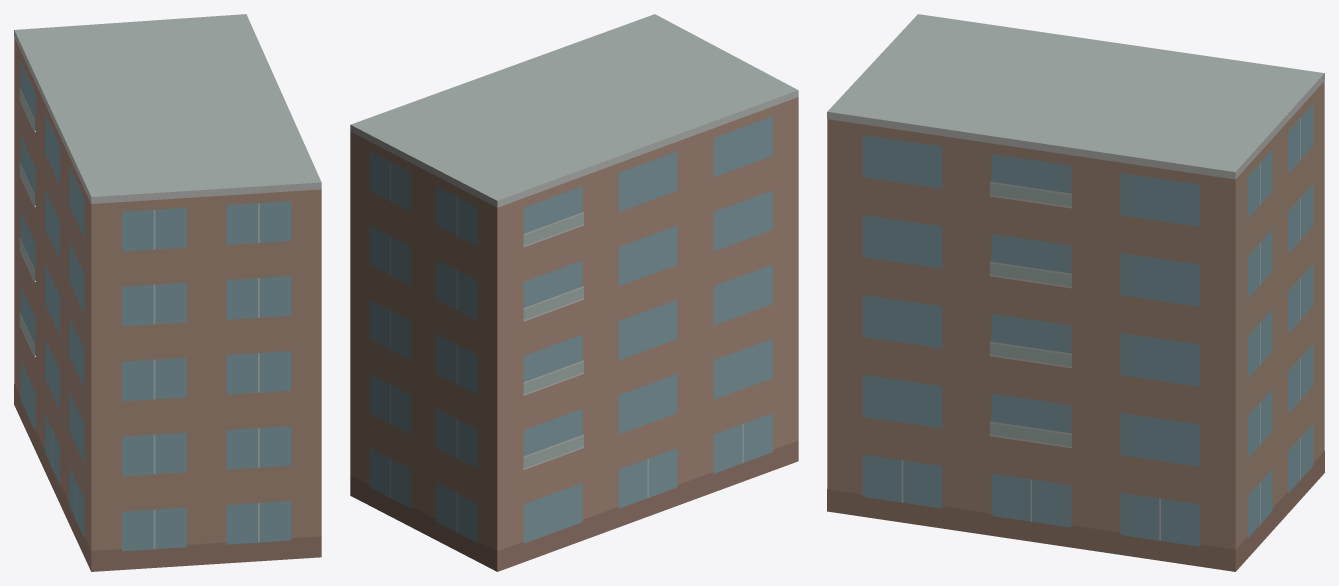
File: survey-upis-32956754.glb
3 views of the same model, side by side, from view 1: azimuth 30°, elevation 25°; view 2: azimuth 150°, elevation 25°; view 3: azimuth 270°, elevation 25° (orthographic). The views are drawn at different scales.
Parts seen in each view (by area): view 1: survey-upis-32956754.tmp; view 2: survey-upis-32956754.tmp; view 3: survey-upis-32956754.tmp.
Part boxes in pixels (x1,y1,x2,y2): survey-upis-32956754.tmp: (14, 14, 321, 571); survey-upis-32956754.tmp: (350, 14, 798, 571); survey-upis-32956754.tmp: (827, 14, 1324, 571).
Size of the model in its own units: 11.3 by 13.3 by 15.02.
